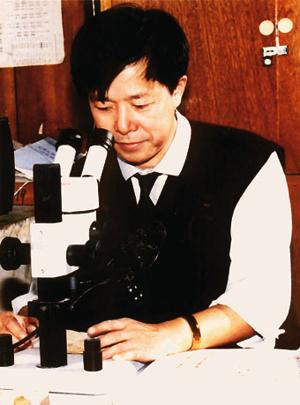person: (1, 10, 293, 359)
